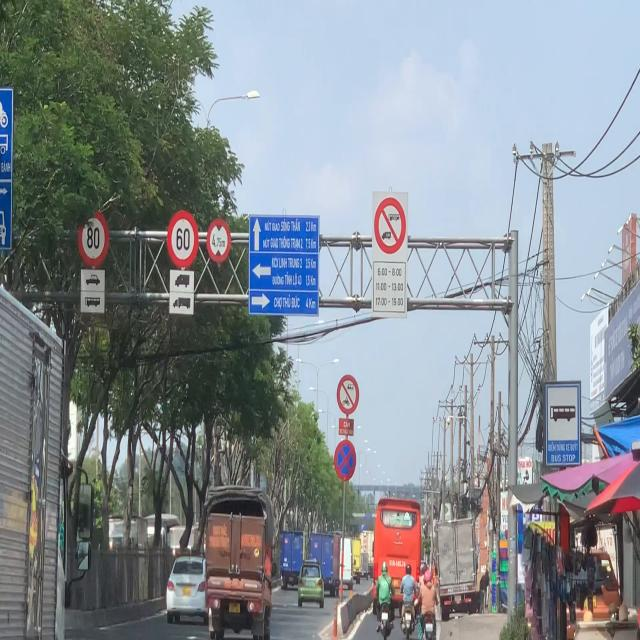Ben xe buyt: (542, 380, 580, 467)
Cam con lai: (374, 198, 407, 256), (337, 375, 359, 415)
Cam dung va do: (334, 436, 359, 482)
Chieu cao toi da: (207, 218, 232, 264)
Toc do toi da: (168, 210, 198, 268), (79, 213, 108, 265)
